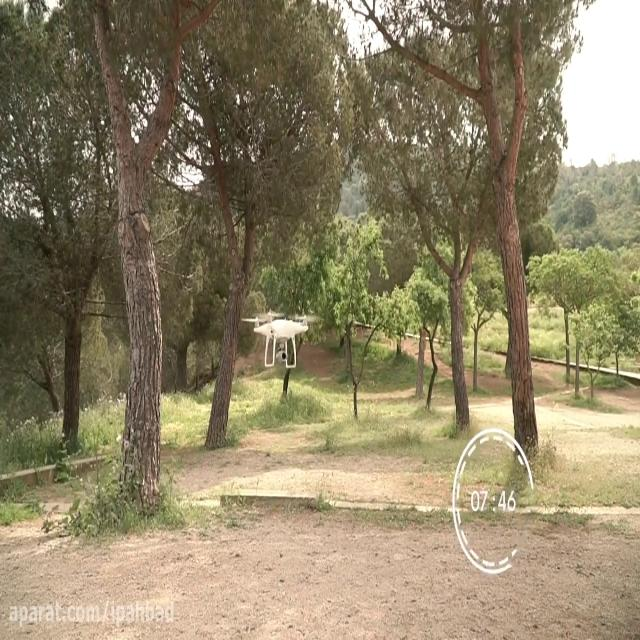drone: (238, 308, 324, 370)
